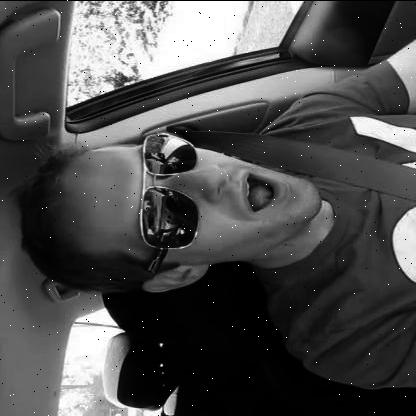seatbelt: (16, 117, 416, 308)
